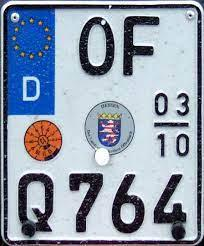4: (151, 168, 192, 237)
6: (109, 168, 150, 236)
7: (63, 169, 106, 235)
F: (120, 15, 161, 81)
O: (75, 14, 116, 79)
Q: (16, 169, 55, 235)
